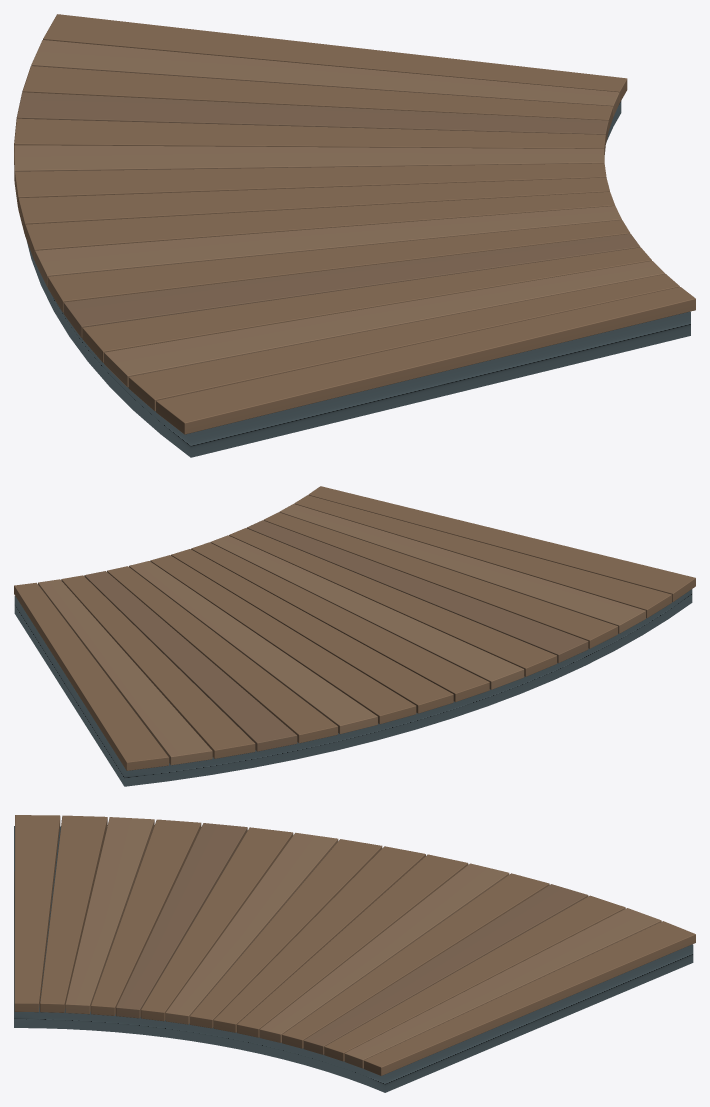
The model's file is city_boardwalk_02_45.glb.
3 renders of one model, top to bottom at view 1: azimuth 30°, elevation 25°; view 2: azimuth 150°, elevation 25°; view 3: azimuth 270°, elevation 25°, orthographic. The views are drawn at different scales.
Visible parts, largest first — view 1: CityBoardwalk02_45_Mesh; view 2: CityBoardwalk02_45_Mesh; view 3: CityBoardwalk02_45_Mesh.
Boxes of the visible parts, x1,y1,x2,y2 form: CityBoardwalk02_45_Mesh: (14,14,695,457); CityBoardwalk02_45_Mesh: (14,486,695,786); CityBoardwalk02_45_Mesh: (14,815,695,1092).
Bounding box in the file's own units: 4.83 × 0.24 × 5.51.
